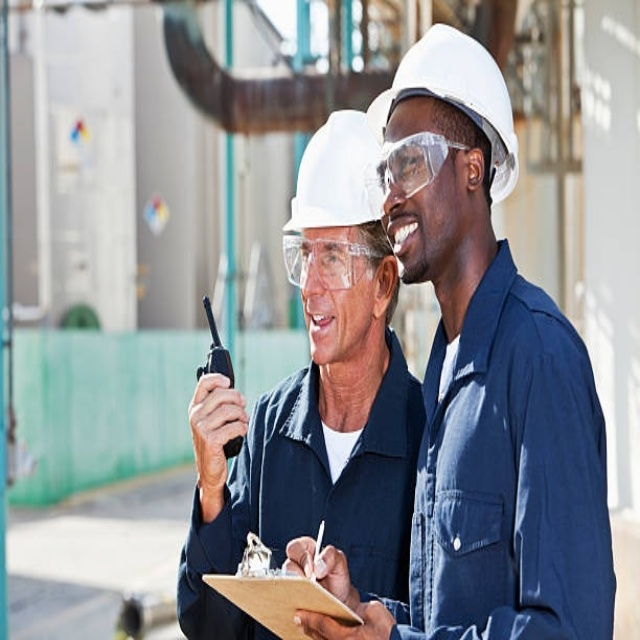Gafas: (372, 127, 472, 190), (281, 231, 381, 281)
Sin_guantes: (187, 370, 249, 490), (284, 535, 356, 618)
Sin_mascara: (385, 213, 428, 268), (302, 304, 340, 353)
